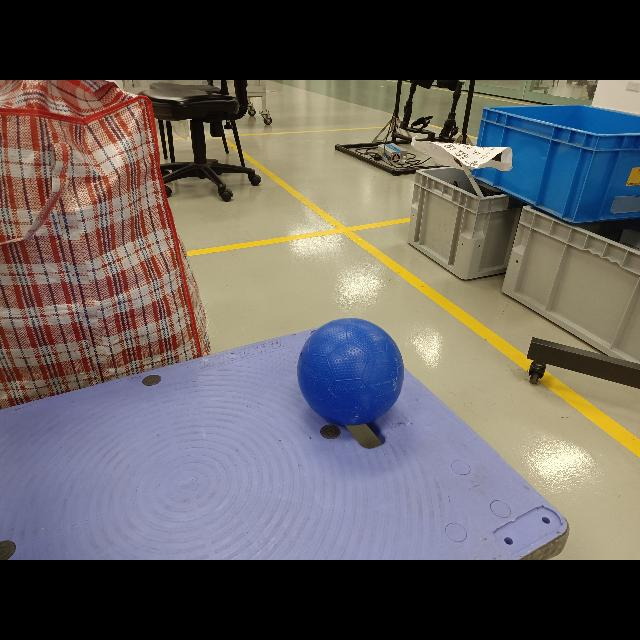B: (296, 320, 404, 422)
